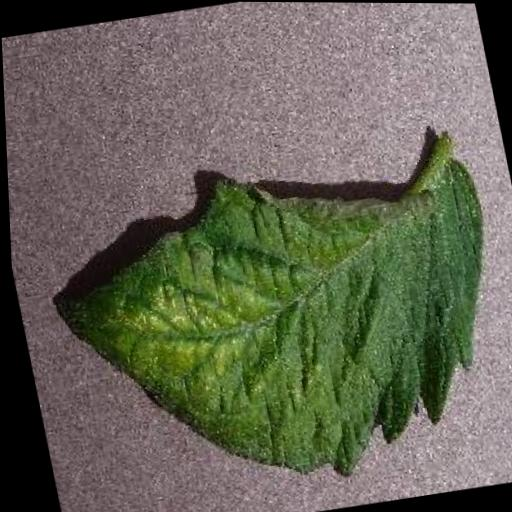Spider Mites: (53, 141, 512, 512)
